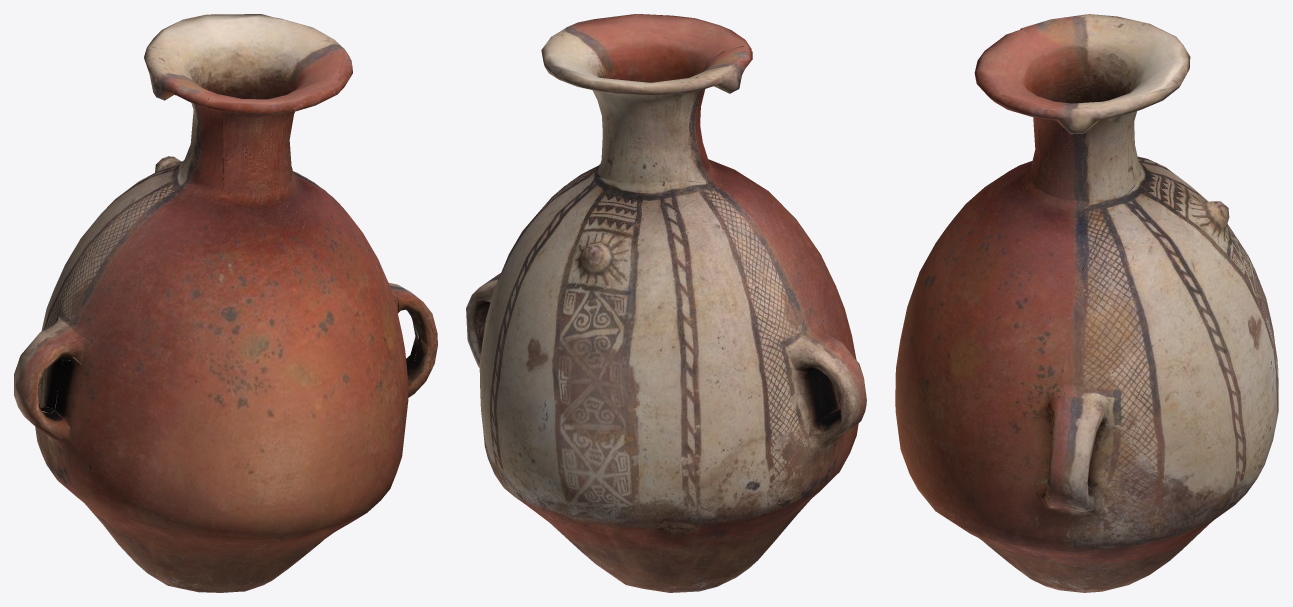
3 views of the same model, side by side, from view 1: azimuth 30°, elevation 25°; view 2: azimuth 150°, elevation 25°; view 3: azimuth 270°, elevation 25° (orthographic). The views are drawn at different scales.
Parts seen in each view (by area): view 1: Mesh_0001; view 2: Mesh_0001; view 3: Mesh_0001.
Boxes of the visible parts, left/top/right/bottom form: Mesh_0001: left=14, top=14, right=437, bottom=592; Mesh_0001: left=466, top=14, right=866, bottom=592; Mesh_0001: left=895, top=14, right=1278, bottom=592.
Size of the model in its own units: 0.4951 by 0.6072 by 0.3998.
1 material, 1 textured.
